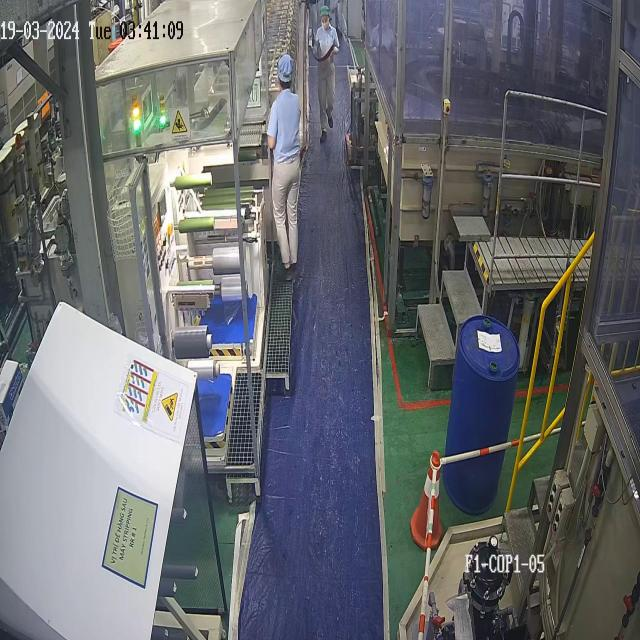Person: (266, 54, 301, 270), (313, 5, 339, 144)
